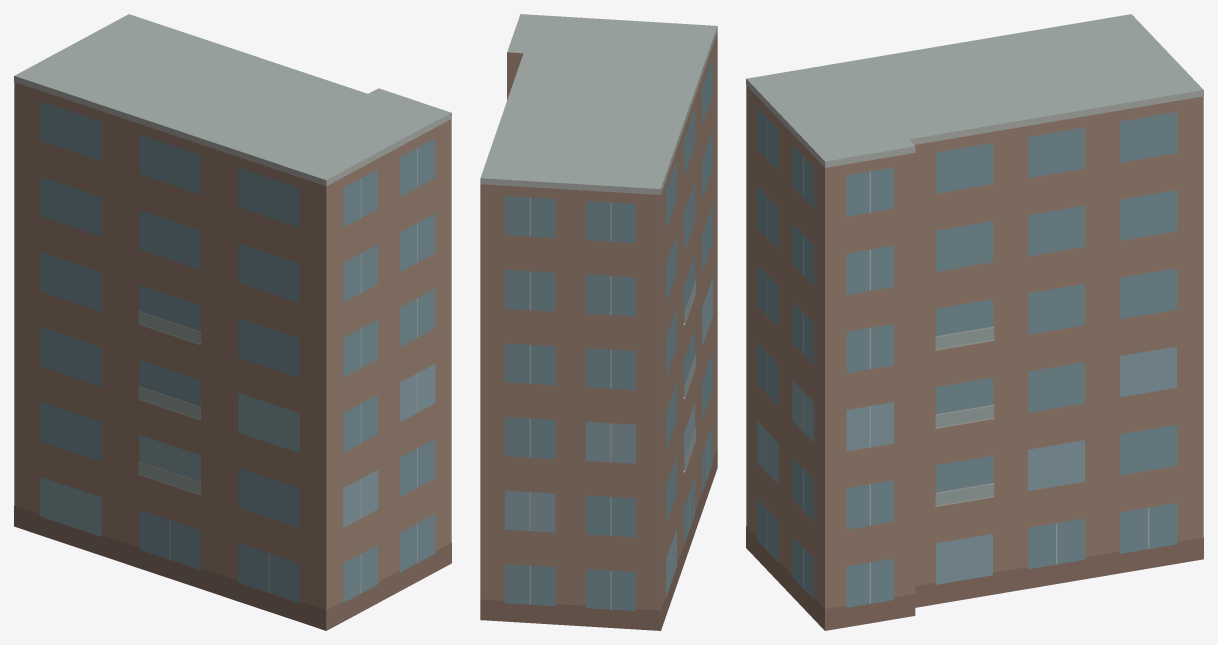
File: survey-upis-32865375.glb
3 views of the same model, side by side, from view 1: azimuth 30°, elevation 25°; view 2: azimuth 150°, elevation 25°; view 3: azimuth 270°, elevation 25° (orthographic). The views are drawn at different scales.
Parts seen in each view (by area): view 1: survey-upis-32865375.tmp; view 2: survey-upis-32865375.tmp; view 3: survey-upis-32865375.tmp.
Part boxes in pixels (x1,y1,x2,y2): survey-upis-32865375.tmp: (14, 14, 451, 630); survey-upis-32865375.tmp: (480, 14, 717, 630); survey-upis-32865375.tmp: (746, 14, 1203, 630).
Size of the model in its own units: 12.14 by 17.98 by 15.9.
